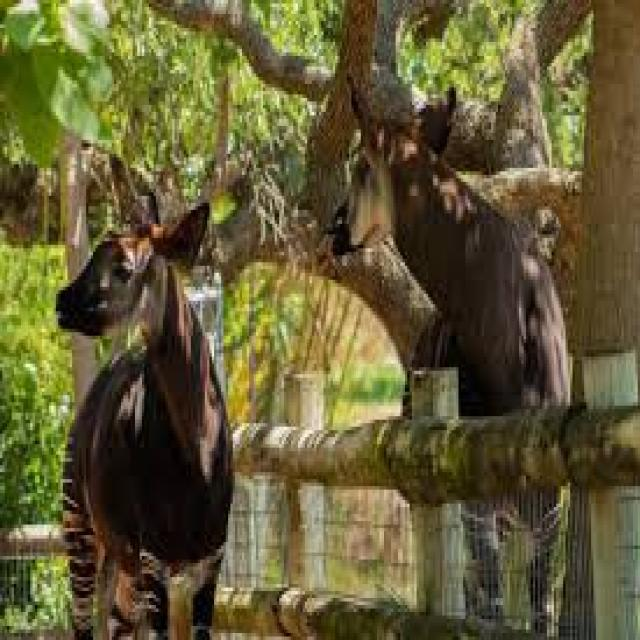Okapi: (326, 56, 579, 640), (54, 144, 238, 640)
